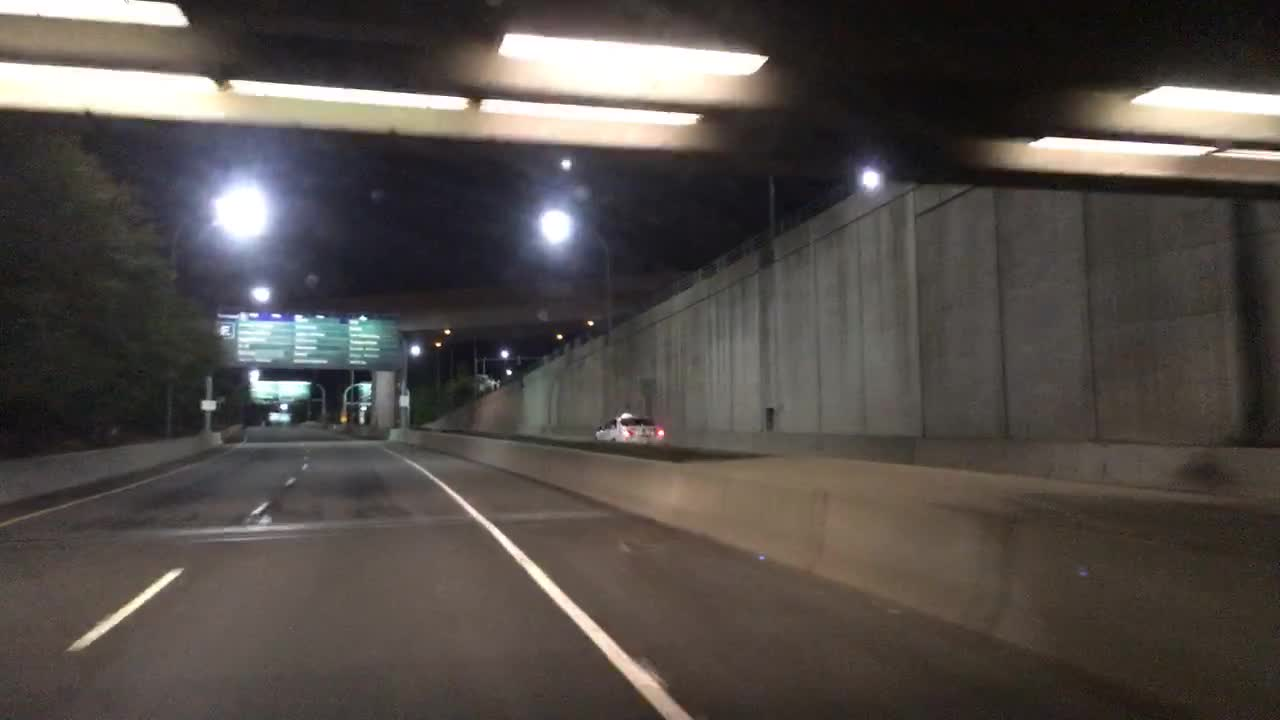car: (595, 412, 663, 445)
traffic sign: (292, 315, 348, 369), (235, 315, 293, 364), (348, 316, 401, 369), (249, 380, 278, 404), (279, 381, 312, 402), (215, 313, 236, 340), (358, 383, 371, 402), (201, 400, 217, 410), (398, 394, 409, 405), (267, 413, 279, 422), (282, 411, 290, 422), (278, 403, 287, 411)
